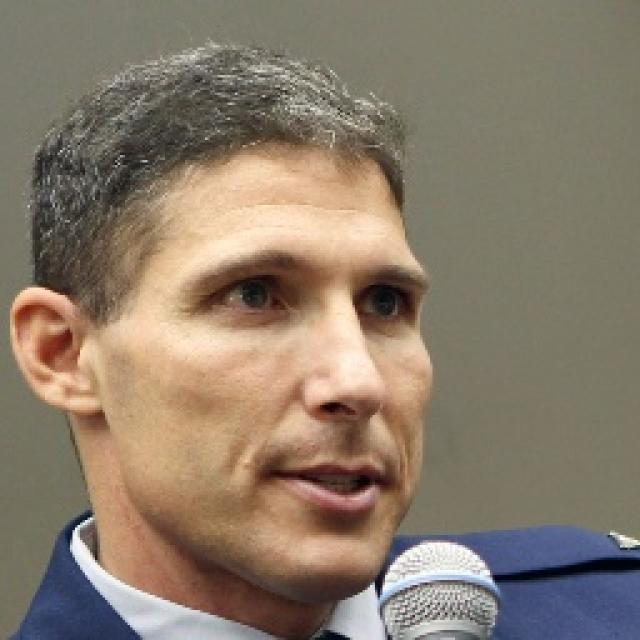earlobe: (59, 372, 104, 416)
eye: (214, 280, 288, 314), (358, 285, 408, 319)
nose: (307, 405, 393, 451)
wholeear: (8, 288, 104, 416)
